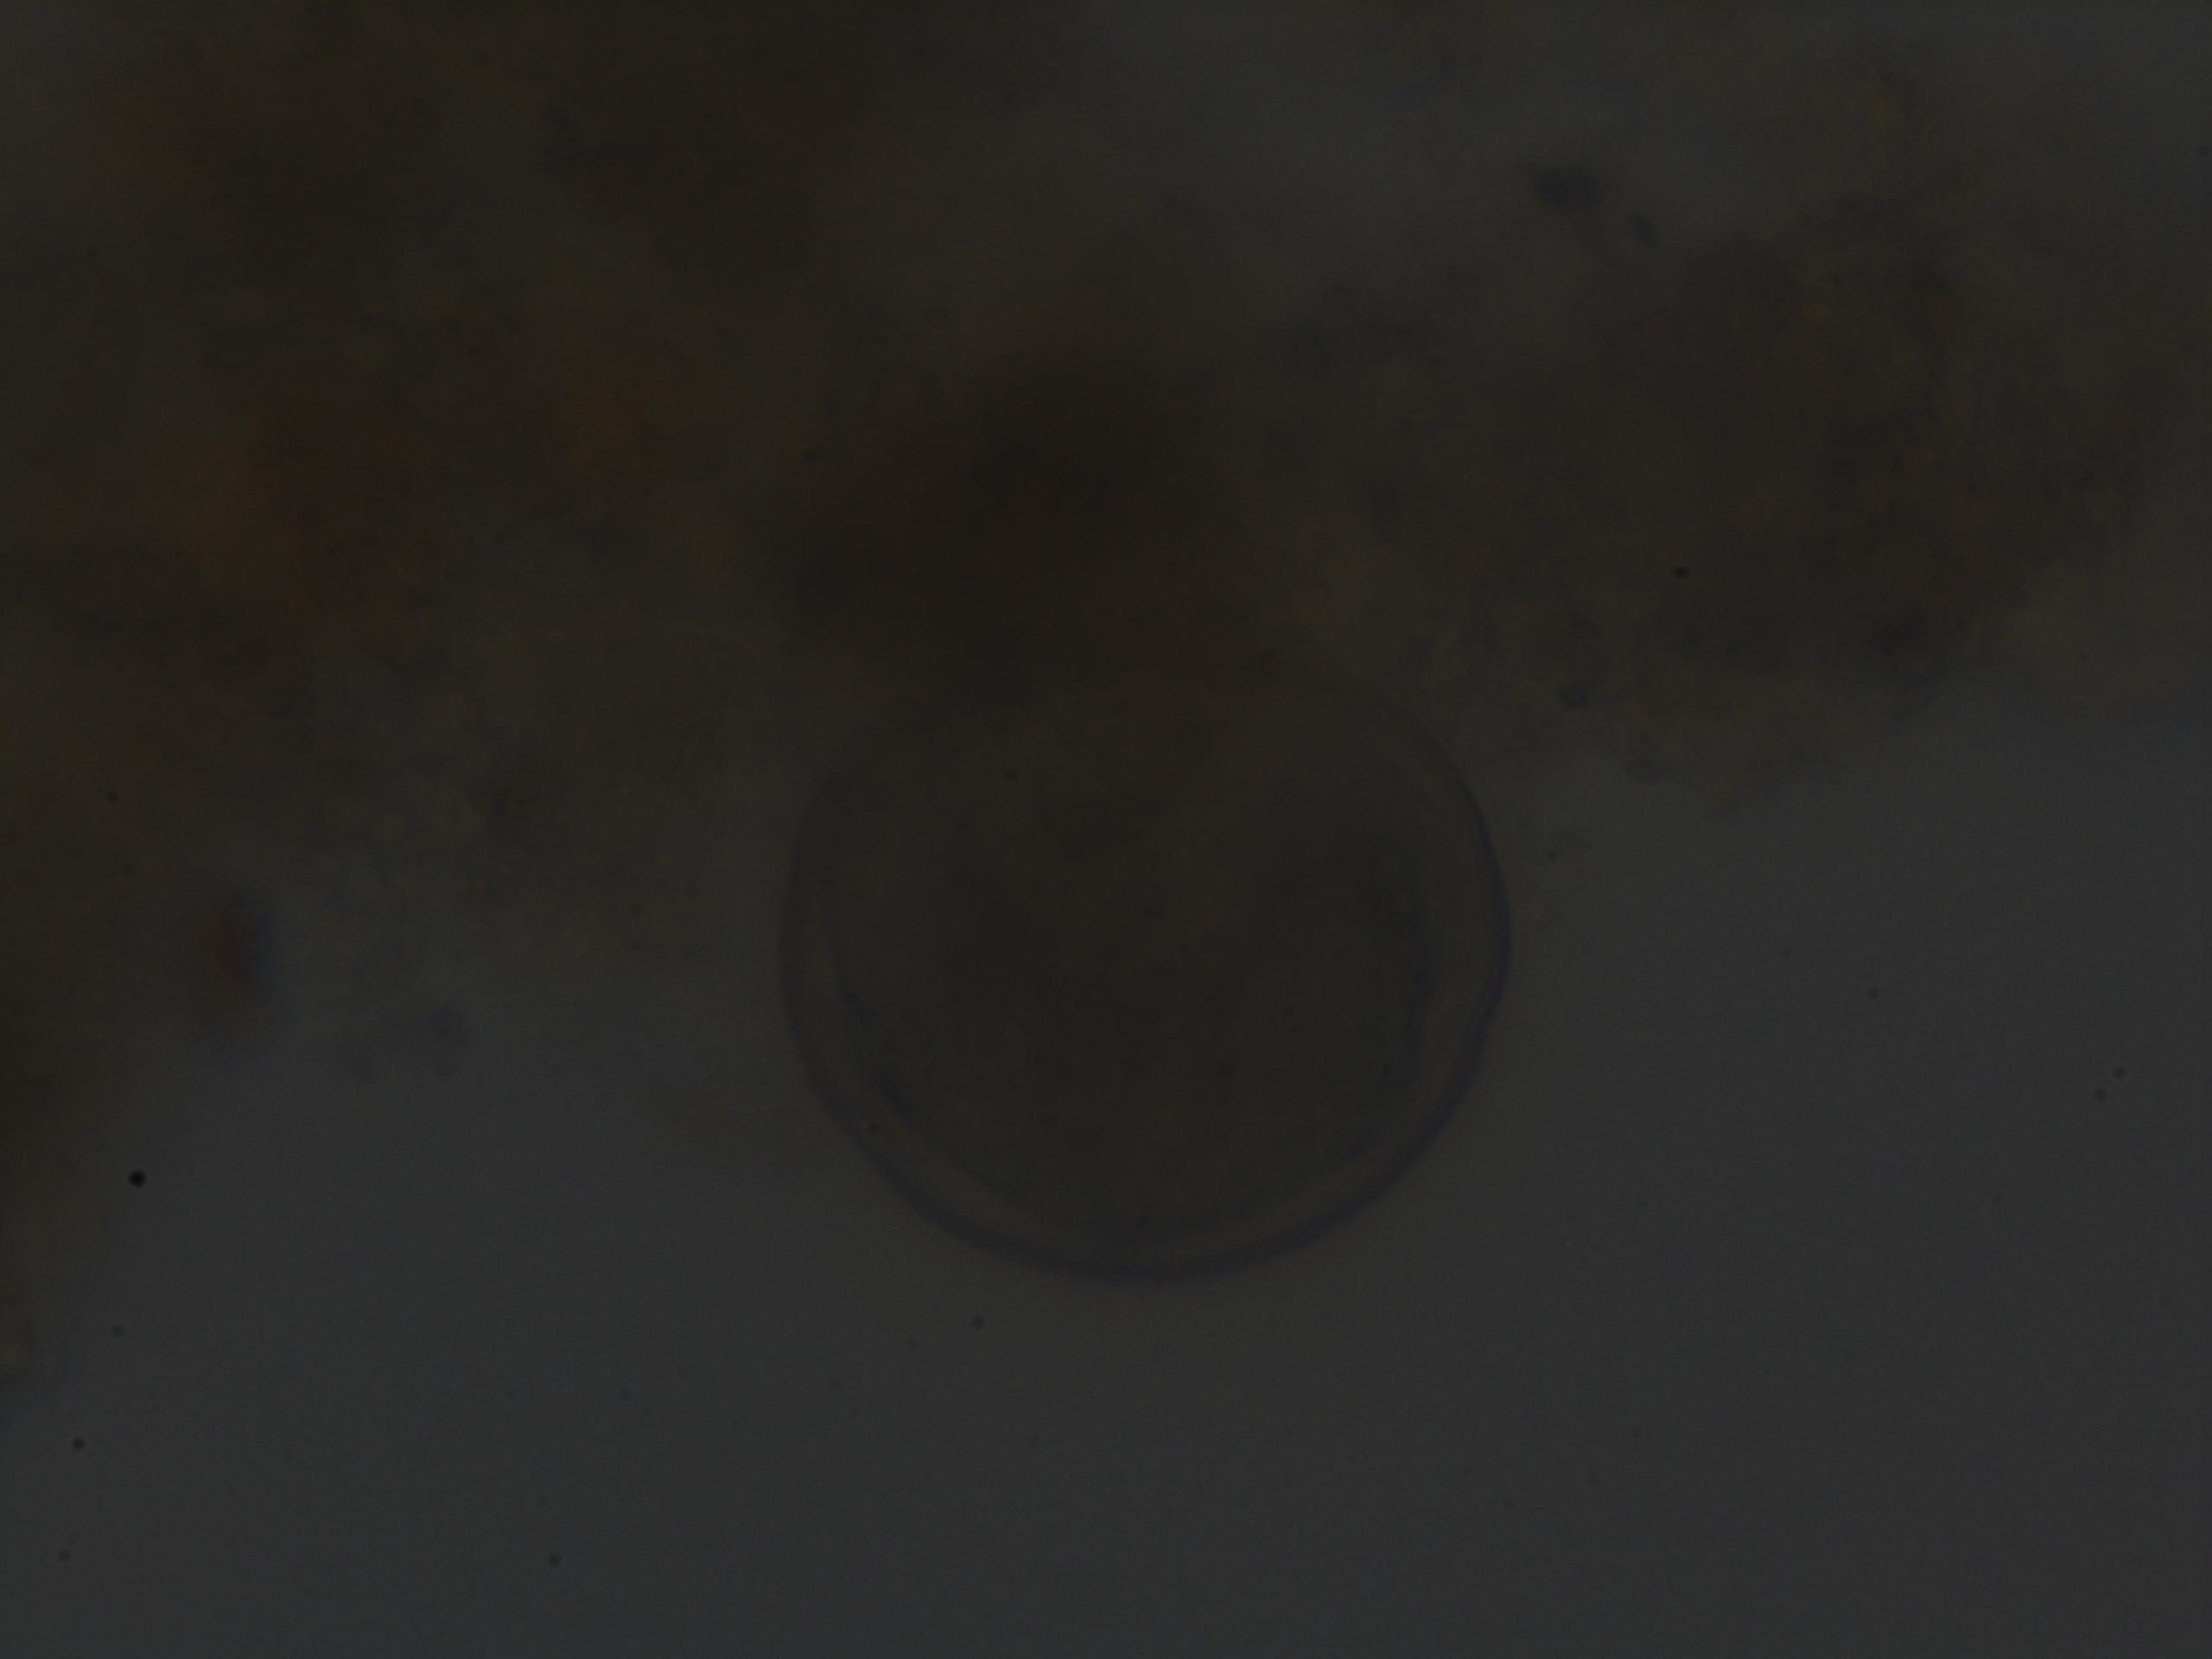protozoa: (759, 589, 1519, 1307)
